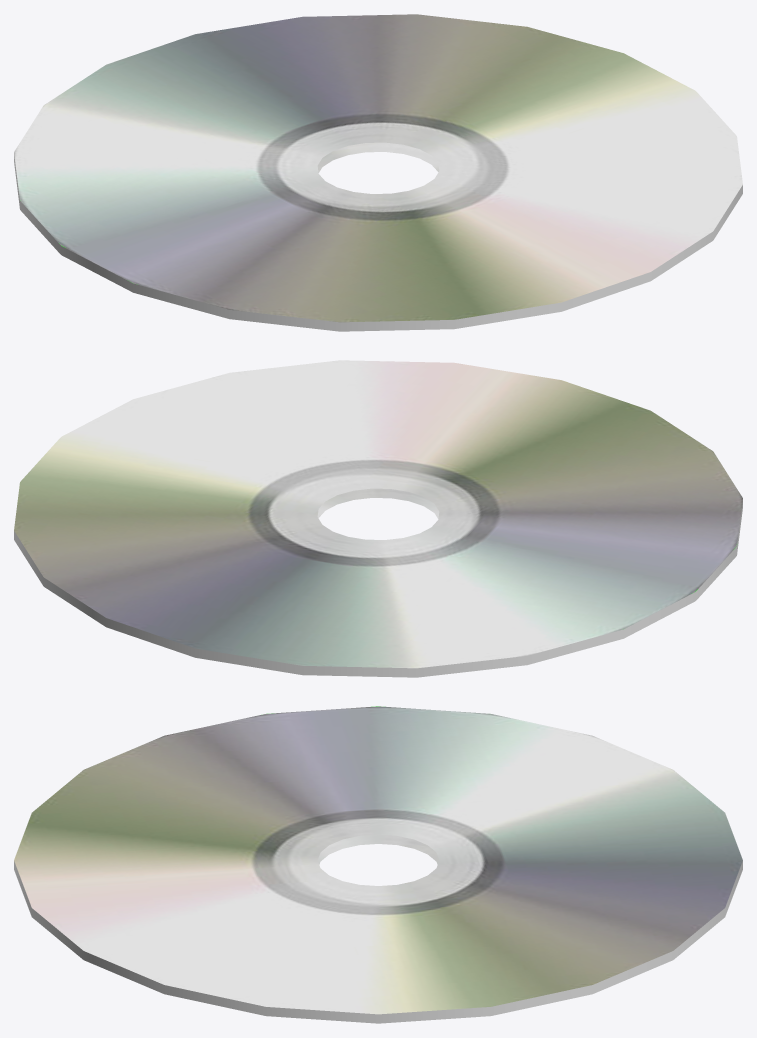
Rendered from disc.FBX.
The picture shows the model from 3 angles, top to bottom: view 1: azimuth 30°, elevation 25°; view 2: azimuth 150°, elevation 25°; view 3: azimuth 270°, elevation 25°; orthographic projection.
Parts seen in each view (by area): view 1: Cylinder001; view 2: Cylinder001; view 3: Cylinder001.
Part boxes in pixels (<box>): Cylinder001: <box>14,14,742,331</box>; Cylinder001: <box>14,360,742,677</box>; Cylinder001: <box>14,706,742,1023</box>.
Bounding box in the file's own units: 1.53 × 0.0215 × 1.53.
